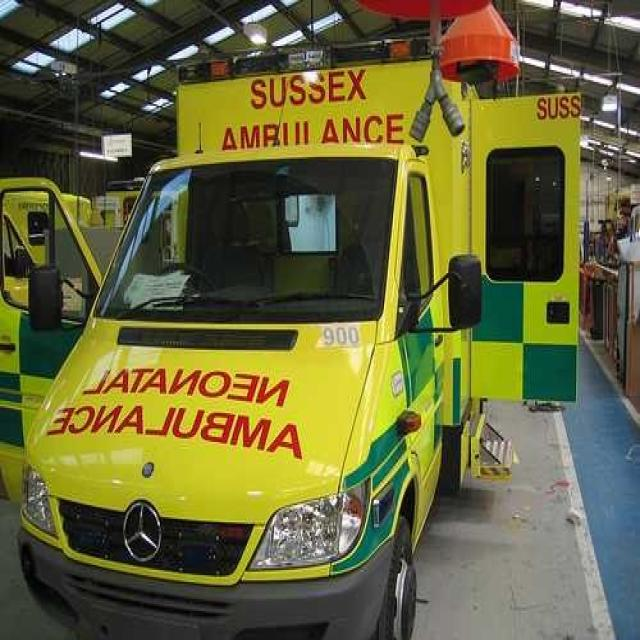ambulance: (3, 59, 613, 618)
